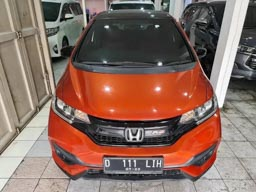plat: (103, 157, 163, 168)
